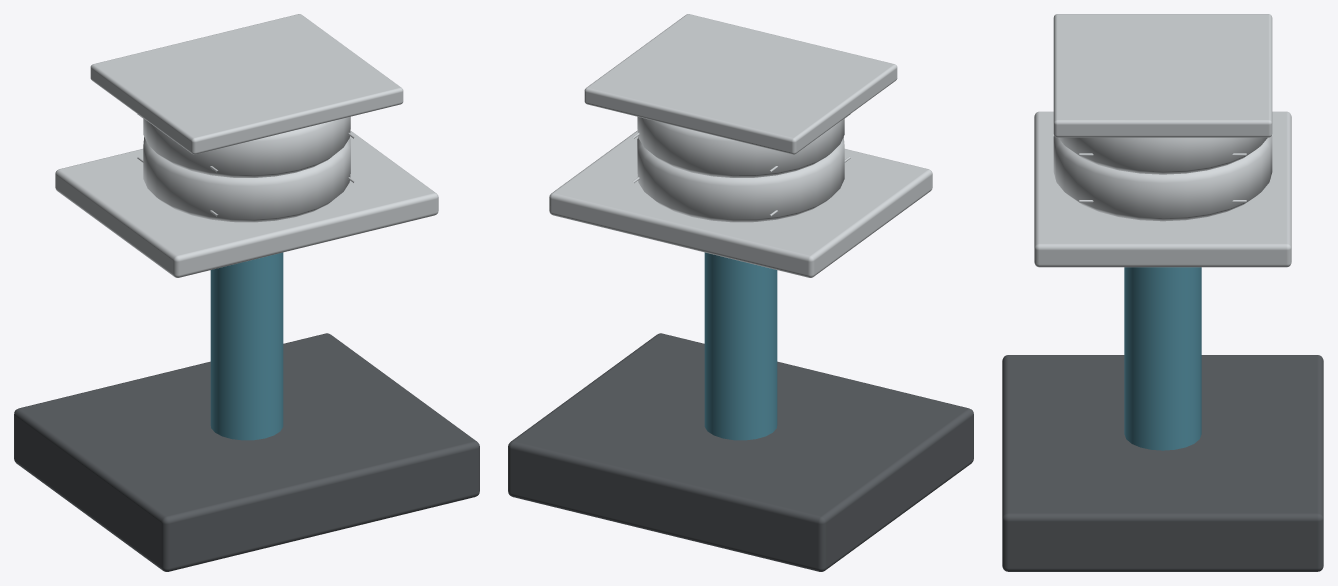
File: geotechnical-soil-testing-laboratory-mechanical-soil-s-78415572__39070.glb
3 renders of one model, left to right at view 1: azimuth 30°, elevation 25°; view 2: azimuth 150°, elevation 25°; view 3: azimuth 270°, elevation 25°, orthographic. The views are drawn at different scales.
Visible parts, largest first — view 1: mechanical-soil-sieve-shaker; view 2: mechanical-soil-sieve-shaker; view 3: mechanical-soil-sieve-shaker.
Part boxes in pixels (x1,y1,x2,y2): mechanical-soil-sieve-shaker: (14,14,479,571); mechanical-soil-sieve-shaker: (508,14,973,571); mechanical-soil-sieve-shaker: (1002,14,1323,571).
Size of the model in its own units: 0.6 by 0.73 by 0.5.
